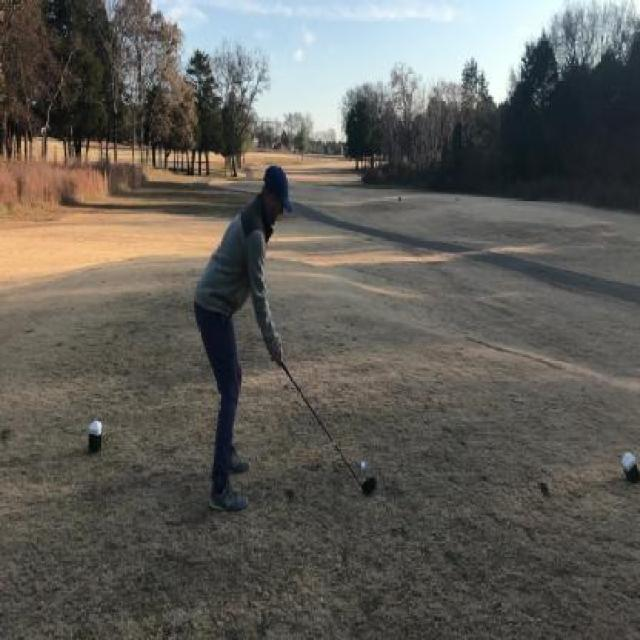club head: (355, 474, 377, 494)
